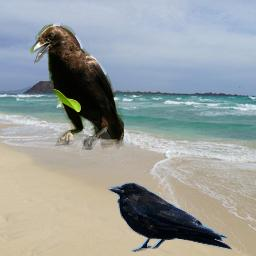Crow: (30, 23, 124, 150), (106, 182, 233, 252)
